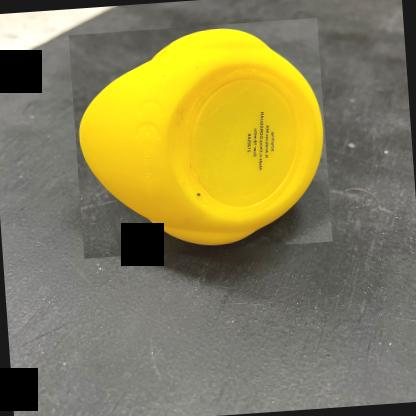duck: (69, 19, 332, 258)
